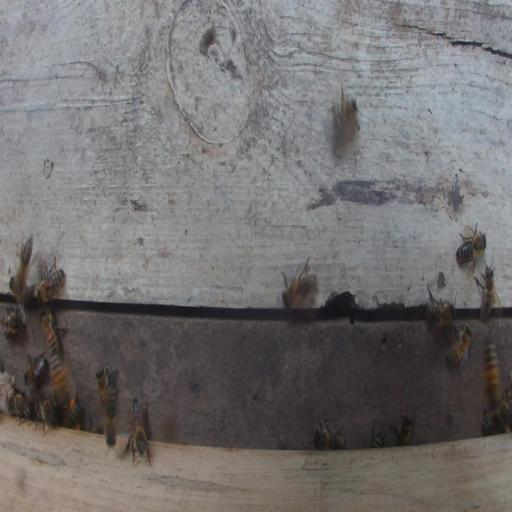nonpollenbee: (281, 258, 316, 309), (424, 294, 456, 334), (477, 263, 497, 326), (313, 412, 346, 450), (334, 97, 357, 151), (34, 267, 64, 307), (15, 235, 34, 298), (126, 422, 152, 466), (446, 324, 472, 368), (40, 306, 61, 358), (484, 341, 501, 402), (456, 232, 487, 264), (23, 350, 46, 392), (50, 356, 69, 406), (1, 303, 26, 337), (391, 412, 413, 446), (34, 399, 54, 436), (106, 386, 117, 446), (8, 275, 32, 302), (8, 394, 31, 419), (496, 397, 510, 433), (95, 366, 107, 407), (131, 397, 143, 426), (482, 412, 495, 436), (370, 431, 385, 447)
pollenbee: (67, 398, 80, 431)
